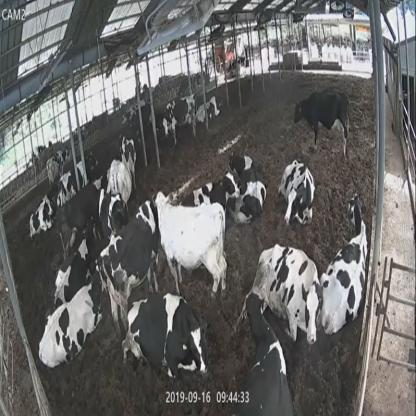cow: (235, 244, 320, 344), (95, 198, 159, 322), (154, 192, 227, 297), (233, 293, 295, 415), (39, 260, 109, 367), (121, 294, 207, 378), (321, 194, 368, 333), (52, 210, 104, 308), (56, 175, 103, 257), (293, 90, 349, 153), (229, 151, 267, 224), (278, 158, 315, 224), (180, 171, 238, 210), (58, 151, 98, 202), (163, 93, 198, 141), (110, 158, 132, 203), (30, 195, 54, 236), (118, 134, 137, 185), (46, 148, 70, 182), (198, 94, 221, 118)
